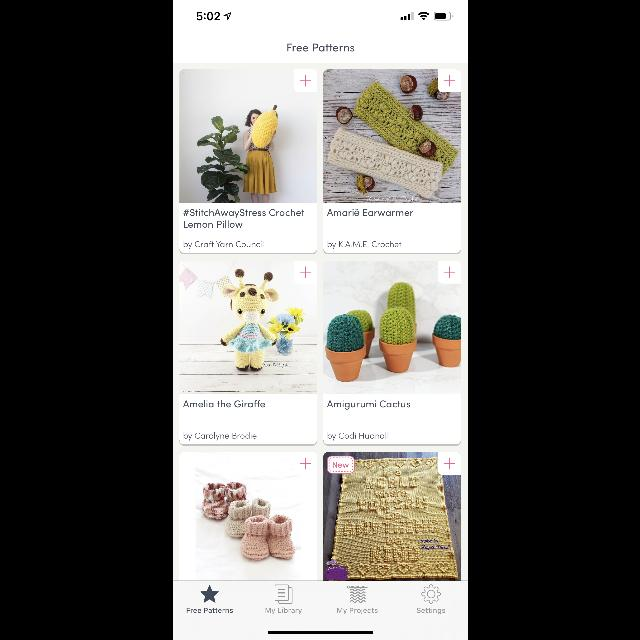icon: (438, 452, 460, 474), (294, 261, 316, 283), (438, 261, 460, 283), (438, 70, 460, 92), (294, 70, 316, 92), (422, 584, 441, 604), (274, 584, 292, 604), (347, 586, 368, 602), (200, 586, 218, 602), (300, 458, 310, 469)
image: (178, 262, 316, 394), (178, 70, 316, 202), (324, 262, 461, 394), (324, 70, 461, 202), (178, 452, 316, 580), (324, 452, 461, 580)
text: (182, 208, 304, 228), (326, 400, 409, 410), (327, 208, 413, 216), (182, 400, 264, 408), (183, 241, 263, 249), (327, 241, 401, 249), (182, 432, 255, 440), (286, 44, 354, 52), (327, 432, 388, 440), (337, 608, 377, 614), (265, 608, 301, 614), (186, 608, 232, 612), (417, 608, 445, 614)
uppertaskbar: (196, 12, 452, 21)
